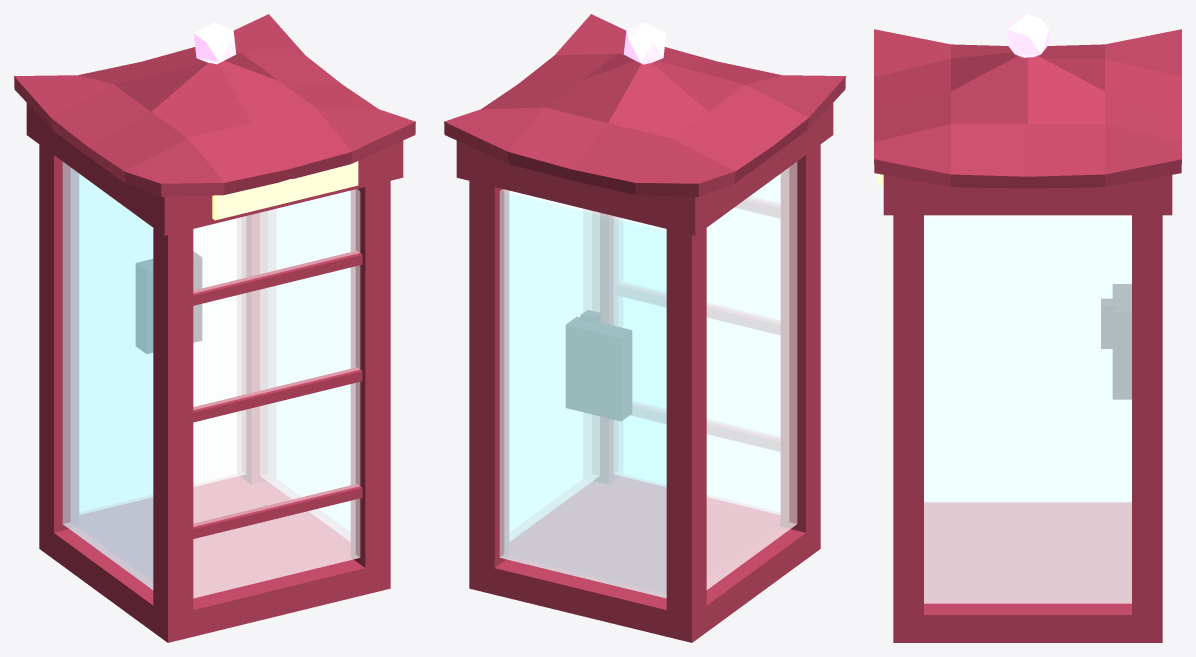
File: phone_booth.glb
The picture shows the model from 3 angles, left to right: view 1: azimuth 30°, elevation 25°; view 2: azimuth 150°, elevation 25°; view 3: azimuth 270°, elevation 25°; orthographic projection. The views are drawn at different scales.
Parts seen in each view (by area): view 1: phone_booth; view 2: phone_booth; view 3: phone_booth.
Boxes of the visible parts, box(x1,y1,x2,y2) form: phone_booth: box(14, 14, 415, 642); phone_booth: box(444, 14, 845, 642); phone_booth: box(874, 14, 1181, 642).
Size of the model in its own units: 1.6 by 3.28 by 1.6.
